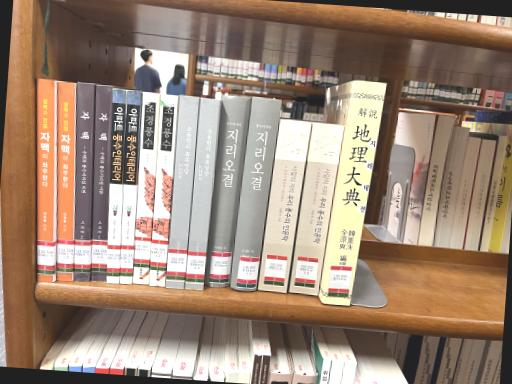book-spine: (323, 80, 386, 306), (229, 97, 281, 291), (288, 122, 344, 296), (257, 119, 312, 293), (204, 95, 251, 287), (184, 98, 220, 291), (166, 95, 200, 289), (148, 94, 179, 287), (132, 92, 160, 285), (90, 85, 112, 281), (119, 90, 141, 284), (74, 82, 94, 281), (106, 89, 126, 283), (36, 78, 55, 282), (56, 82, 74, 281)
